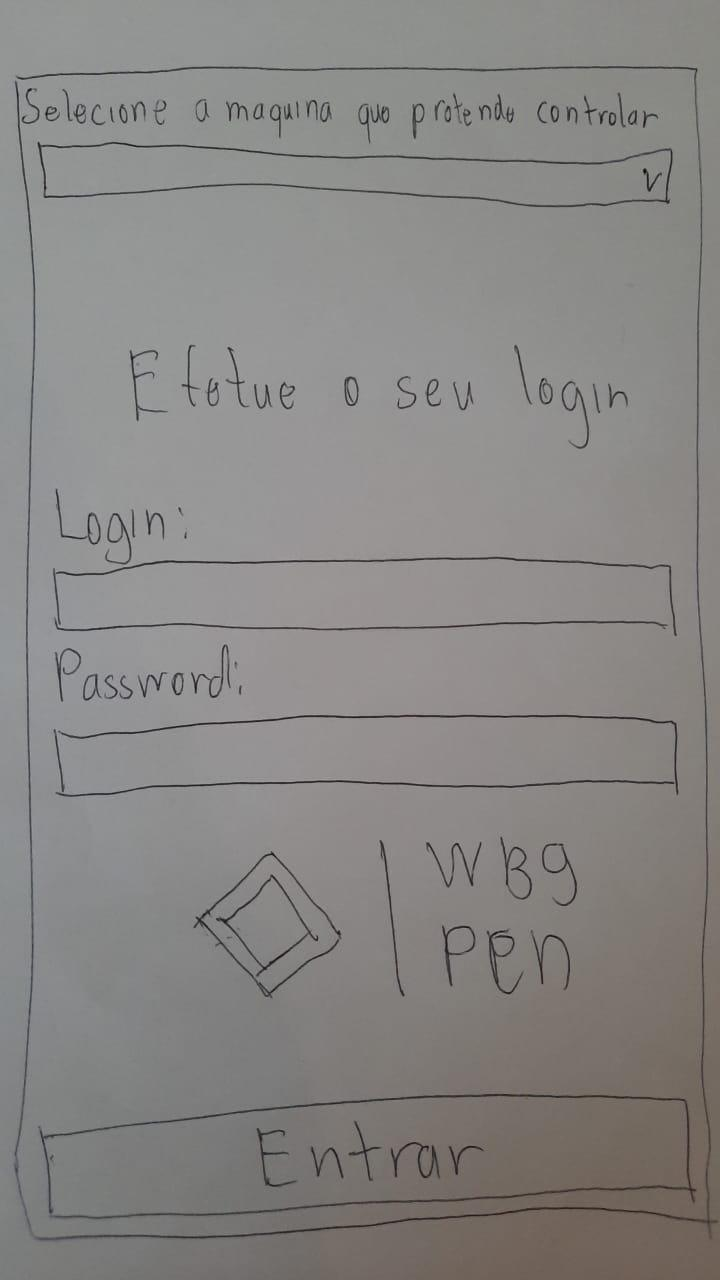Button: (39, 1092, 693, 1220)
Image: (194, 849, 344, 996)
Label: (129, 341, 631, 449), (360, 830, 591, 1009), (20, 82, 658, 143), (53, 641, 242, 704), (54, 488, 190, 565)
ListPicker: (37, 142, 672, 207)
Screen: (14, 65, 712, 1240)
TextBox: (52, 714, 680, 798), (54, 557, 676, 631)
